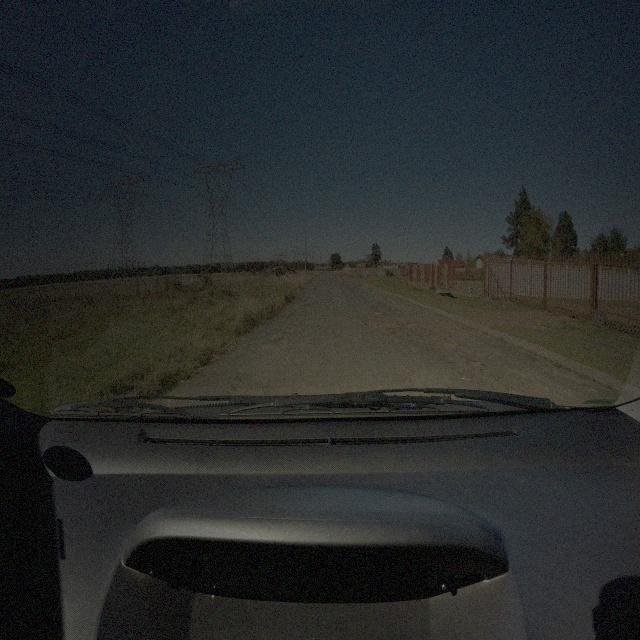pothole: (364, 318, 400, 329), (437, 341, 456, 351), (468, 359, 483, 371), (508, 385, 525, 395), (277, 336, 288, 346), (428, 332, 439, 340), (406, 322, 418, 328), (461, 330, 470, 338), (410, 334, 420, 341)
